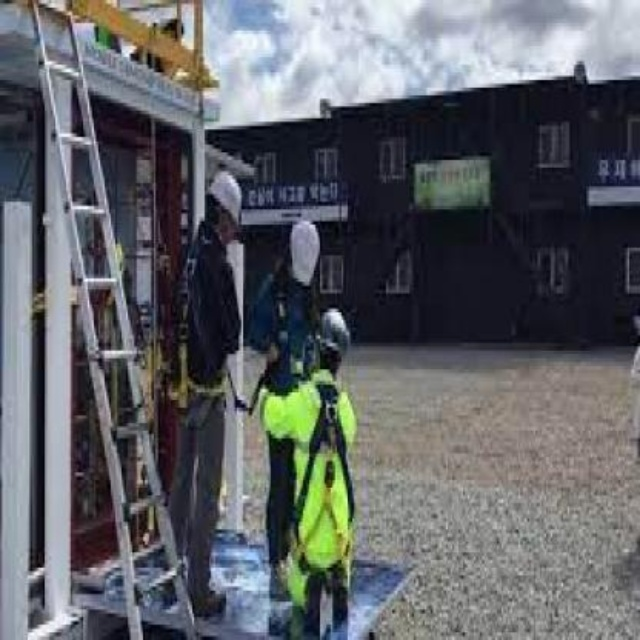Arnes_seguridad: (287, 375, 355, 613), (156, 231, 238, 424), (248, 272, 305, 437)
